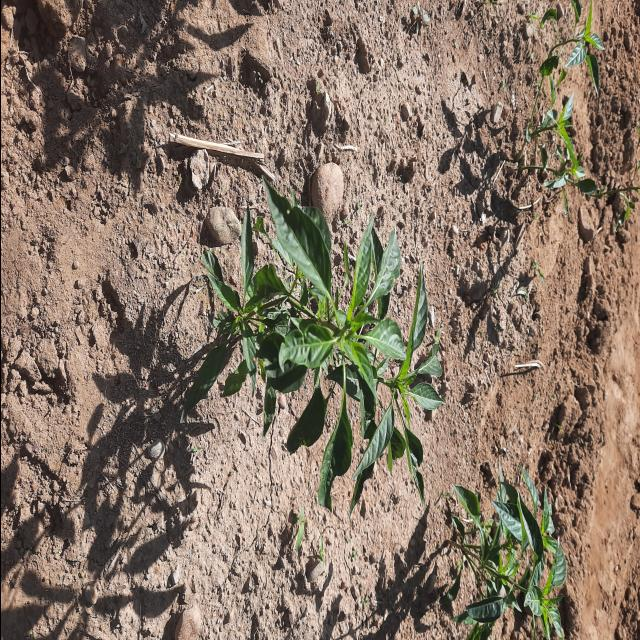sehat: (260, 156, 330, 298)
